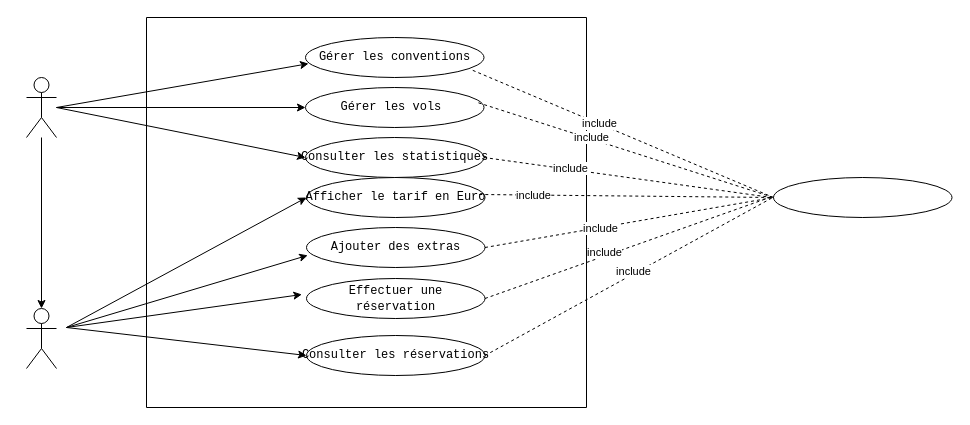
This 970x425 diagram has some shape labels left out. Each missing label, with the box of its shape:
admin: (26, 76, 56, 138)
authentification: (772, 176, 952, 218)
passager: (26, 308, 56, 368)
